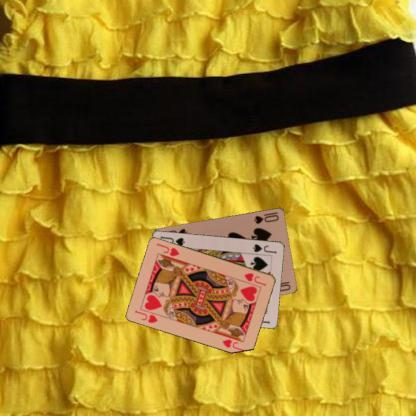10s: (251, 209, 280, 225)
Jh: (242, 270, 268, 287), (132, 308, 159, 324)
Js: (250, 242, 278, 254)
